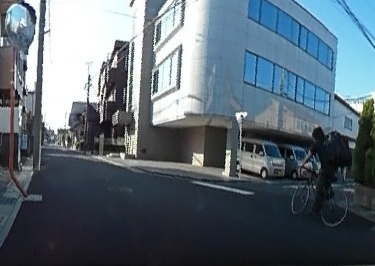person: (308, 126, 344, 213)
